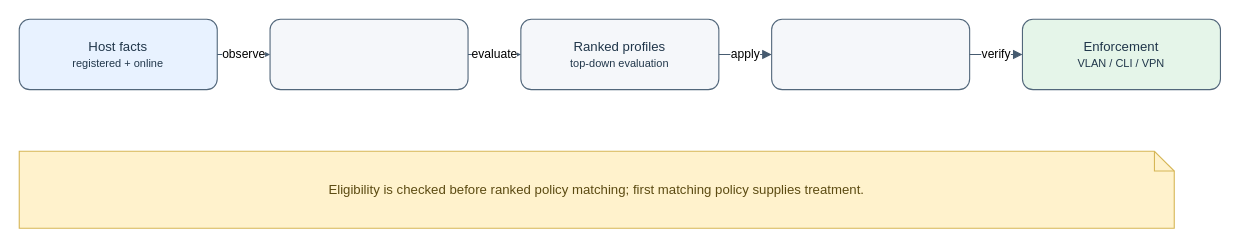
The diagram is 1240 pixels wide and 248 high, and some of its shapes have lost their labels. The shapes that lost their labels are listed below. From the top down, each one's centre as x and y in pixels, then its label:
At point 368,54: "Eligibility role-based port".
At point 870,54: "First match access config".
